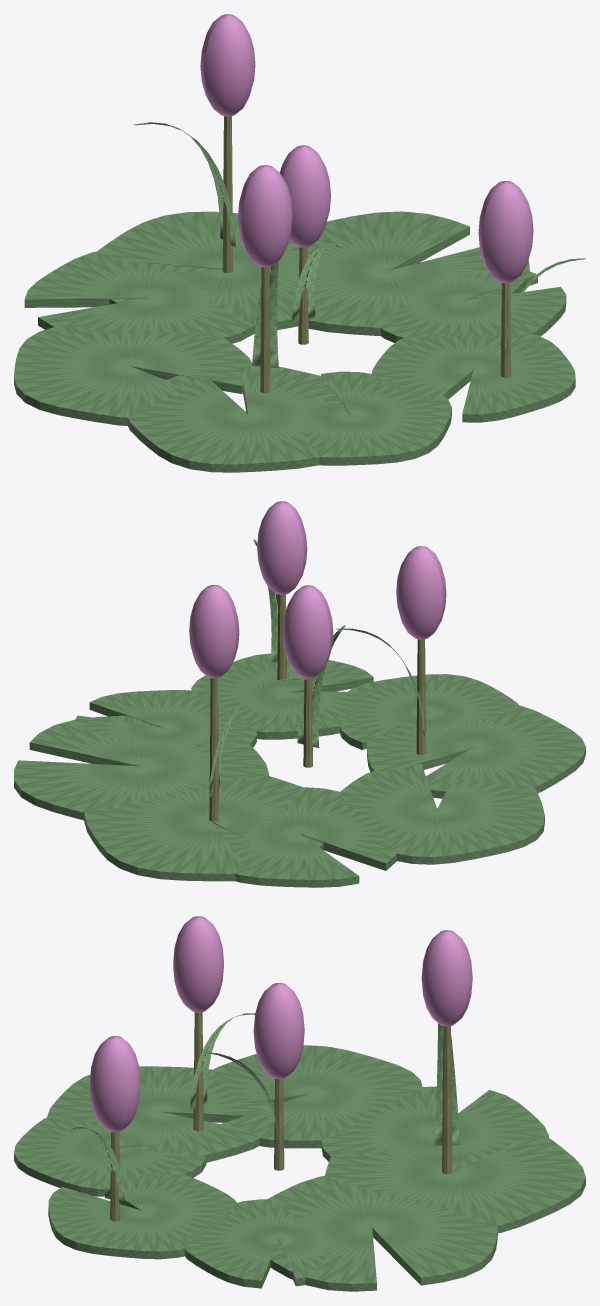
The model's file is water_hyacinth_mat_swamp_and_mangrove_22625.glb.
3 renders of one model, top to bottom at view 1: azimuth 30°, elevation 25°; view 2: azimuth 150°, elevation 25°; view 3: azimuth 270°, elevation 25°, orthographic. The views are drawn at different scales.
Parts seen in each view (by area): view 1: water-hyacinth; view 2: water-hyacinth; view 3: water-hyacinth.
Part boxes in pixels (<box>): water-hyacinth: <box>14,14,585,472</box>; water-hyacinth: <box>14,501,585,887</box>; water-hyacinth: <box>14,916,585,1291</box>.
Bounding box in the file's own units: 1.3 × 0.635 × 1.32.
3 materials, 2 textured.
